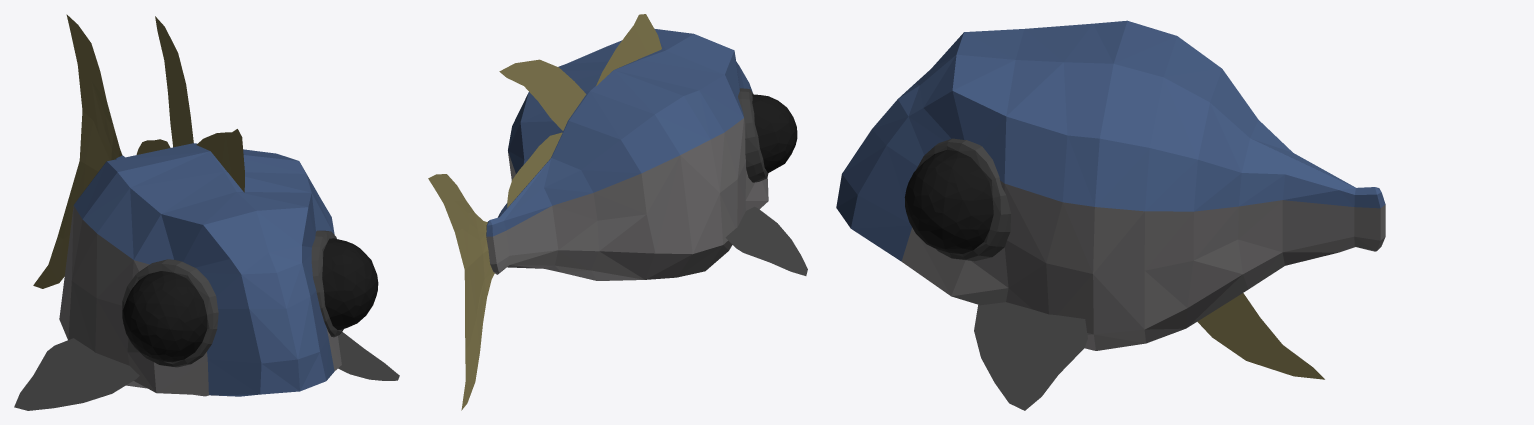
File: tuna.glb
3 renders of one model, left to right at view 1: azimuth 30°, elevation 25°; view 2: azimuth 150°, elevation 25°; view 3: azimuth 270°, elevation 25°, orthographic. The views are drawn at different scales.
Visible parts, largest first — view 1: Tuna_baked; view 2: Tuna_baked; view 3: Tuna_baked.
Boxes of the visible parts, x1=… form: Tuna_baked: x1=14, y1=14, x2=399, y2=410; Tuna_baked: x1=428, y1=14, x2=807, y2=410; Tuna_baked: x1=836, y1=20, x2=1385, y2=410.
Size of the model in its own units: 3.84 by 3.48 by 5.58.
Materials: 1 (1 with a texture image).
